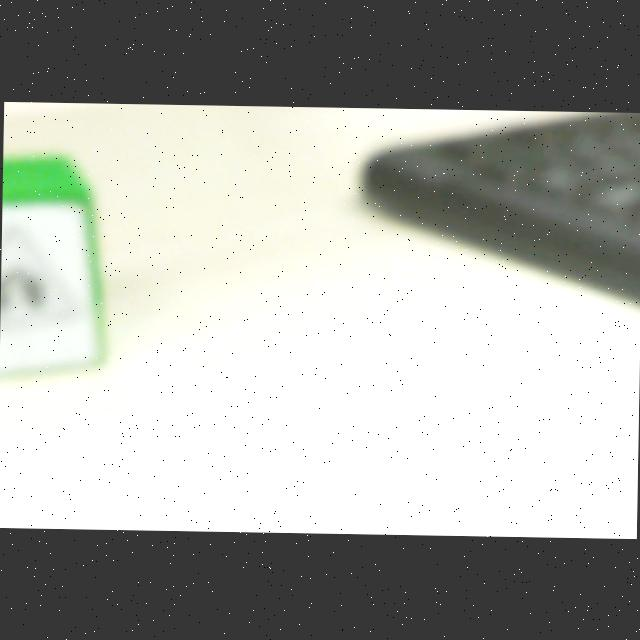Earthquake: (0, 225, 67, 331)
